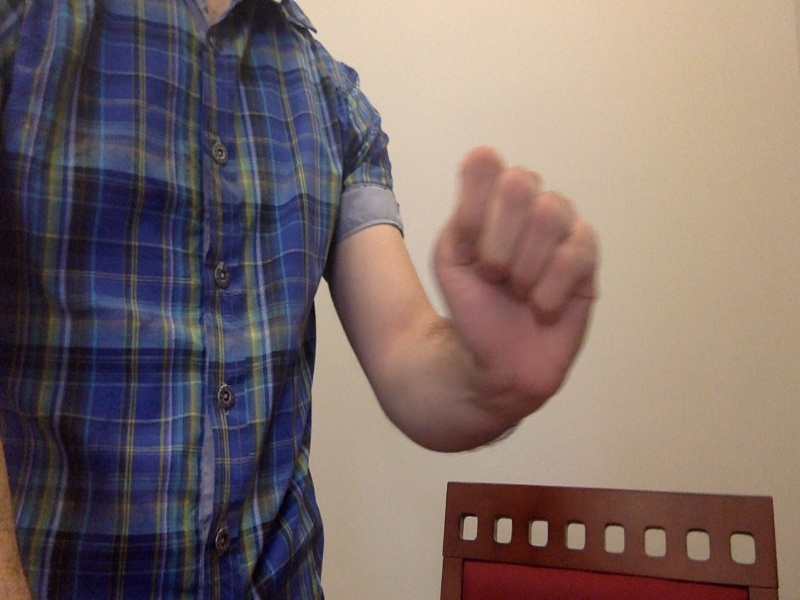0-hand: (433, 147, 603, 404)
